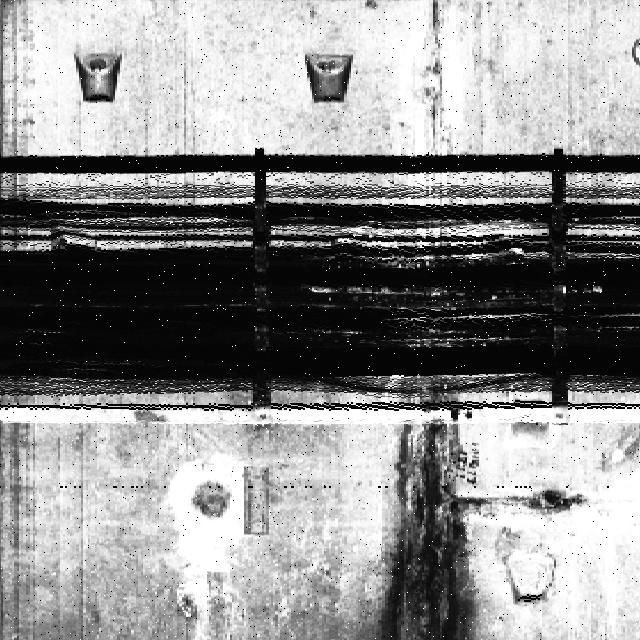leakage: (362, 386, 488, 640)
